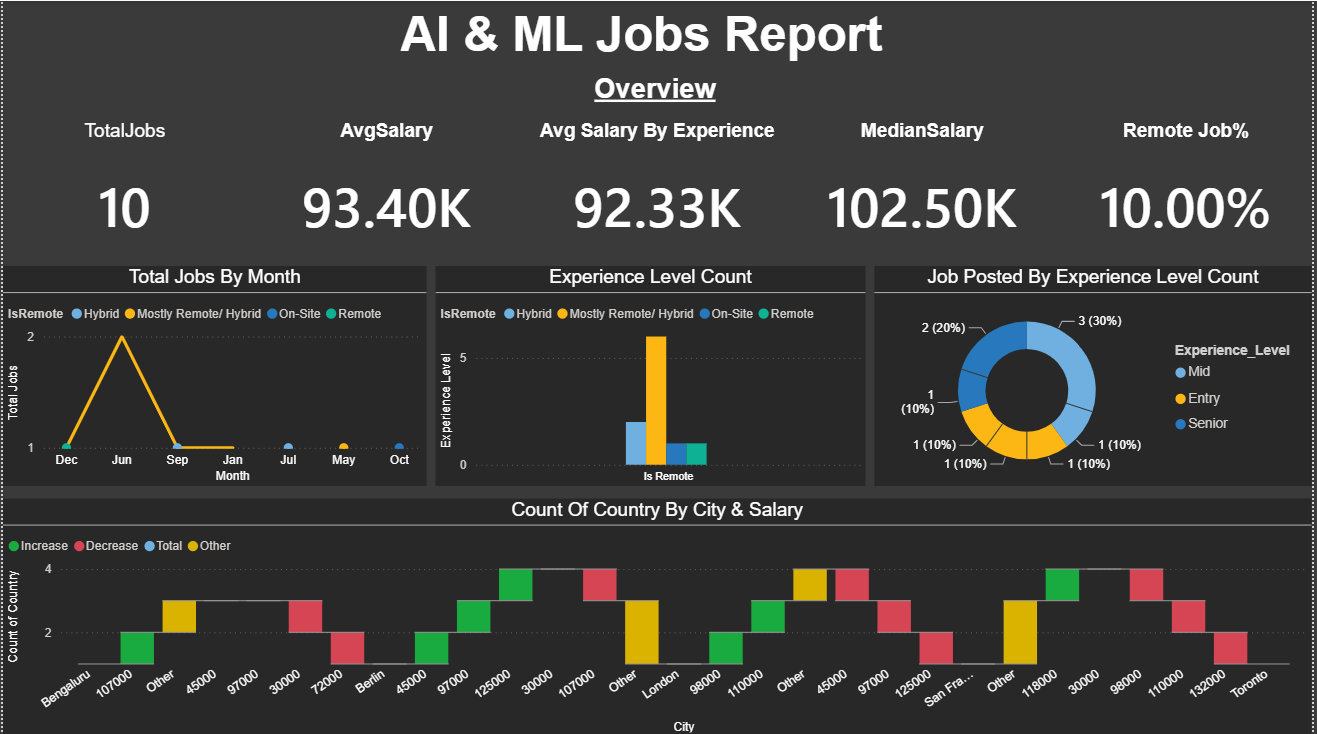

What the dashboard file says about the page in this screenshot:
{"tool":"powerbi","page":{"name":"Overview","canvas":[1280,720],"ordinal":0},"visuals":[{"type":"textbox","box":[384.2,0,583.2,101.5],"z":0},{"type":"cardVisual","title":"TotalJobs","fields":{"Data":["Fact_Jobs.TotalJobs"]},"box":[0,116.2,238.5,143.1],"z":1000},{"type":"cardVisual","title":"AvgSalary","fields":{"Data":["Fact_Jobs.AvgSalary"]},"box":[255.6,116.2,239.7,143.1],"z":2000},{"type":"cardVisual","title":"MedianSalary","fields":{"Data":["Fact_Jobs.MedianSalary"]},"box":[776.5,116.2,245.8,143.1],"z":3000},{"type":"cardVisual","title":"Remote Job%","fields":{"Data":["Fact_Jobs.RemoteJob%"]},"box":[1034.5,116.2,245.8,143.1],"z":4000},{"type":"cardVisual","title":"Avg Salary By Experience","fields":{"Data":["Fact_Jobs.AvgSalaryByExperience"]},"box":[517.3,116.2,245.8,143.1],"z":5000},{"type":"lineChart","title":"Total Jobs By Month","fields":{"Category":["Dim_Date.MonthName"],"Y":["Fact_Jobs.TotalJobs"],"Series":["Fact_Jobs.IsRemote"]},"box":[0,259.2,414.5,215.2],"z":6000},{"type":"clusteredColumnChart","title":"Experience Level Count","fields":{"Series":["Fact_Jobs.IsRemote"],"Y":["CountNonNull(Fact_Jobs.Experience_Level)"]},"box":[423.1,259.2,420.7,215.2],"z":7000},{"type":"donutChart","title":"Job Posted By Experience Level Count","fields":{"Series":["Fact_Jobs.IsRemote"],"Category":["Fact_Jobs.Experience_Level"],"Y":["Fact_Jobs.TotalJobs"]},"box":[852.3,259.2,428,215.2],"z":8000},{"type":"waterfallChart","title":"Count Of Country By City & Salary","fields":{"Category":["Dim_Locations.City"],"Breakdown":["Fact_Jobs.Salary_USD"],"Y":["CountNonNull(Dim_Locations.Country)"]},"box":[0,487.1,1280.3,233.3],"z":9000},{"type":"textbox","box":[573.5,66,129.6,50.1],"z":10000}]}

Visuals, with their boxes in screenshot pixels (x1, y1, x2, y2), scaled from the page's 1280x720 canvas onto the 1317x734 screenshot:
textbox: <box>395,0,995,103</box>
"TotalJobs" cardVisual: <box>0,118,245,264</box>
"AvgSalary" cardVisual: <box>263,118,510,264</box>
"MedianSalary" cardVisual: <box>799,118,1052,264</box>
"Remote Job%" cardVisual: <box>1064,118,1316,264</box>
"Avg Salary By Experience" cardVisual: <box>532,118,785,264</box>
"Total Jobs By Month" lineChart: <box>0,264,426,484</box>
"Experience Level Count" clusteredColumnChart: <box>435,264,868,484</box>
"Job Posted By Experience Level Count" donutChart: <box>877,264,1316,484</box>
"Count Of Country By City & Salary" waterfallChart: <box>0,497,1316,733</box>
textbox: <box>590,67,723,118</box>
